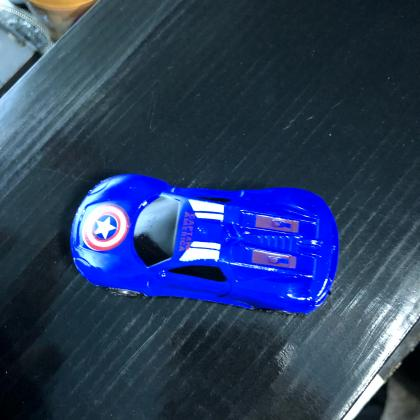Car: (69, 174, 340, 317)
